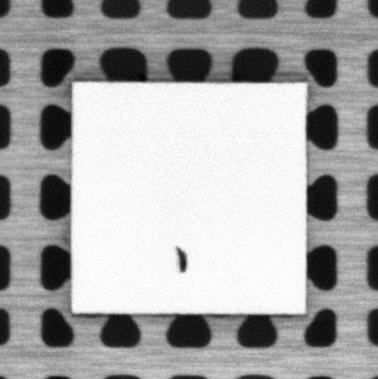DIE_INK: (174, 244, 189, 273)
